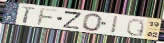F: (36, 6, 59, 27)
I: (109, 15, 120, 35)
O: (81, 13, 104, 32)
Q: (125, 18, 146, 38)
T: (20, 6, 36, 24)
Z: (62, 10, 83, 30)
